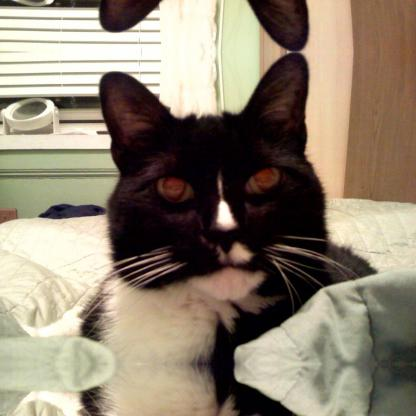Cat: (80, 52, 378, 362)
